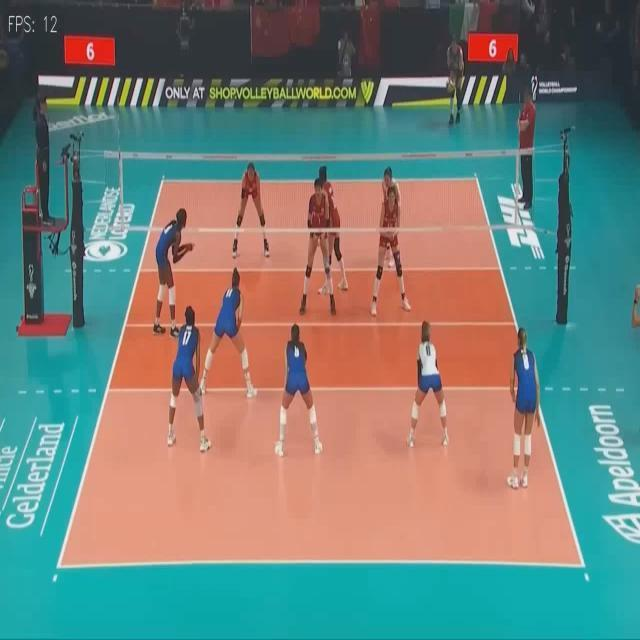volleyball: (446, 80, 456, 94)
